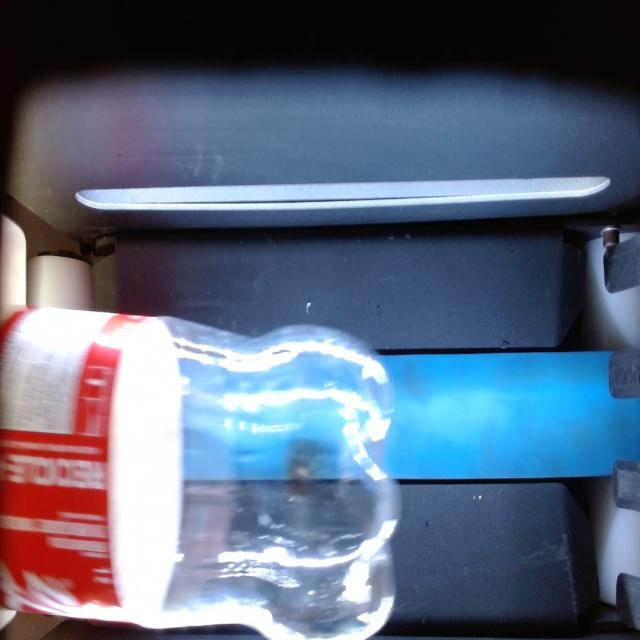bottom: (164, 320, 399, 638)
label: (0, 309, 182, 624)
